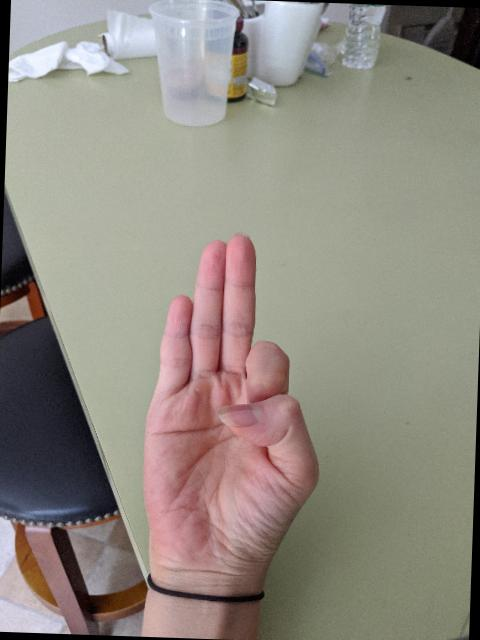F: (133, 224, 334, 604)
